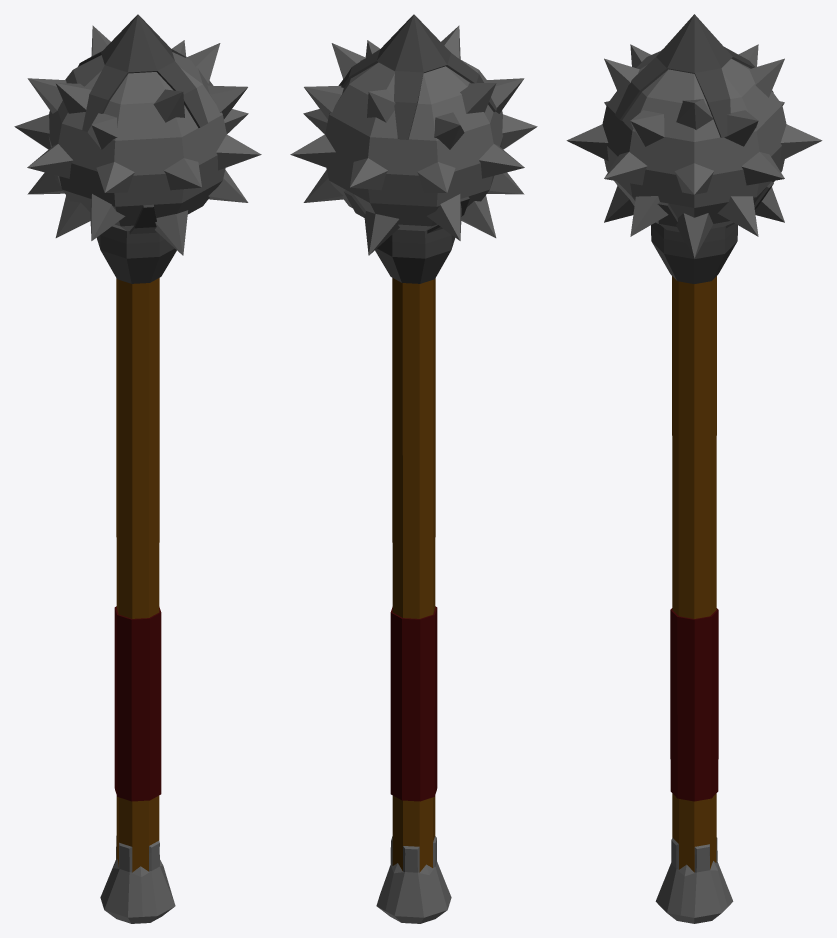
The model's file is Mace.fbx.
The picture shows the model from 3 angles, left to right: view 1: azimuth 30°, elevation 25°; view 2: azimuth 150°, elevation 25°; view 3: azimuth 270°, elevation 25°; orthographic projection.
Parts seen in each view (by area): view 1: Mace_3, Mace_2, Mace_1, Mace_4; view 2: Mace_3, Mace_2, Mace_1, Mace_4; view 3: Mace_3, Mace_2, Mace_1, Mace_4.
Part boxes in pixels (<box>): Mace_3: <box>14,25,261,923</box>; Mace_2: <box>57,53,226,923</box>; Mace_1: <box>49,137,225,923</box>; Mace_4: <box>80,14,195,100</box>; Mace_3: <box>290,25,537,923</box>; Mace_2: <box>325,62,494,923</box>; Mace_1: <box>326,137,502,923</box>; Mace_4: <box>349,14,478,103</box>; Mace_3: <box>566,44,822,922</box>; Mace_2: <box>602,56,786,923</box>; Mace_1: <box>604,146,784,923</box>; Mace_4: <box>631,14,755,102</box>.
Bounding box in the file's own units: 25.94 × 100 × 25.94.
